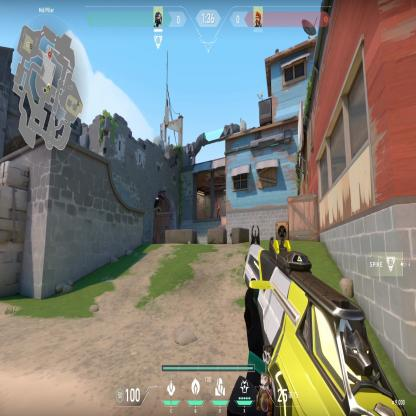enemy: (216, 201, 221, 218)
